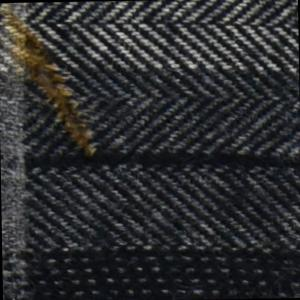Oil Stain: (1, 2, 99, 164)
